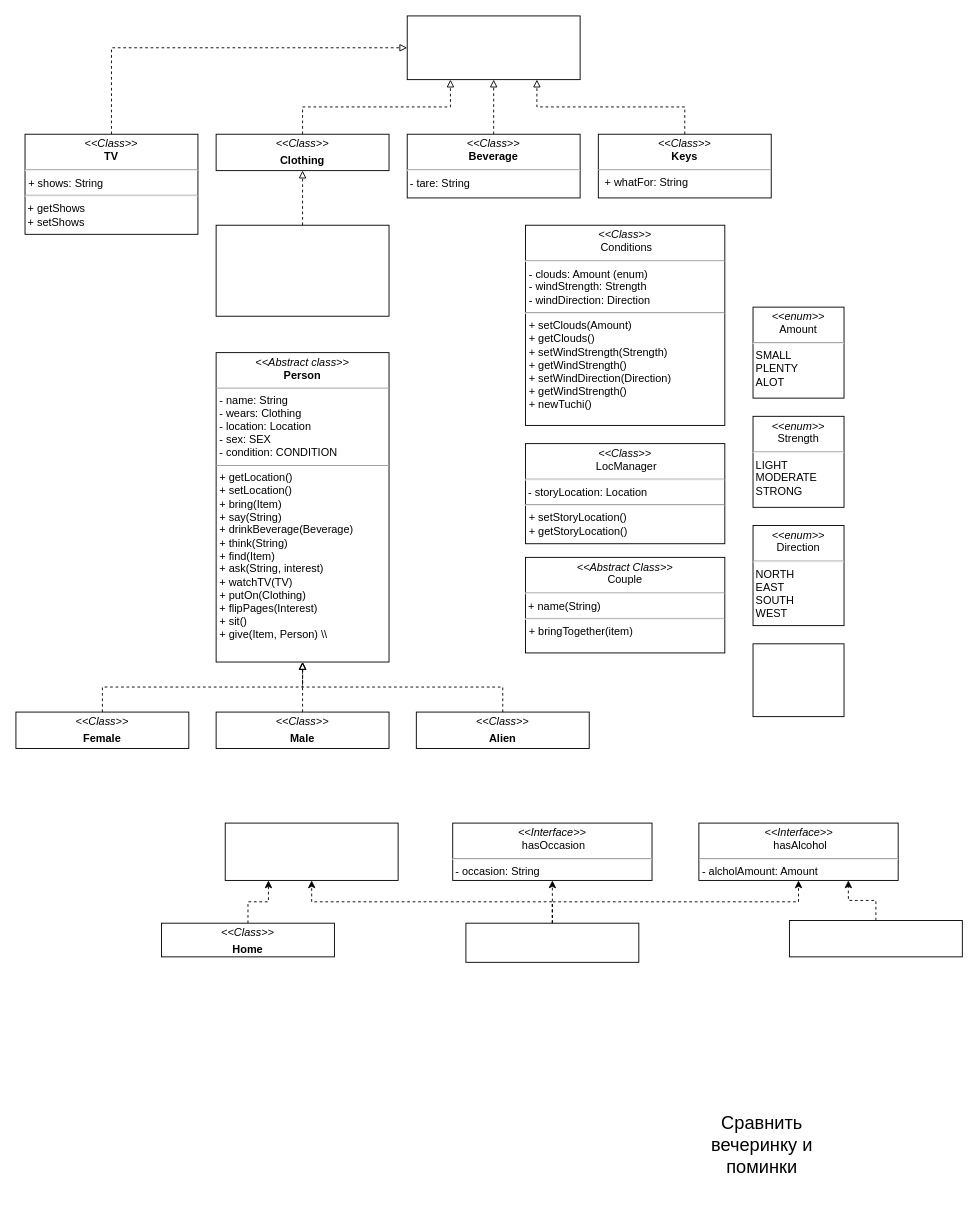
Some shapes in this 978 by 1215 pixel diagram are drawn without their labels. Here are the shapes that lost their labels. From the top down, the centre of each, then its label:
At (493,47): "<< Class>> Item + name: String".
At (302,270): "<<Class >> Jacket - isZipped: Bool + zip".
At (798,680): "<<enum>> Interest DEDICATED CARELESS".
At (311,851): "<<Interface >> Location - name: String".
At (552,942): "<<Class >> LadlowHome".
At (875,938): "<<Class >> Party".
